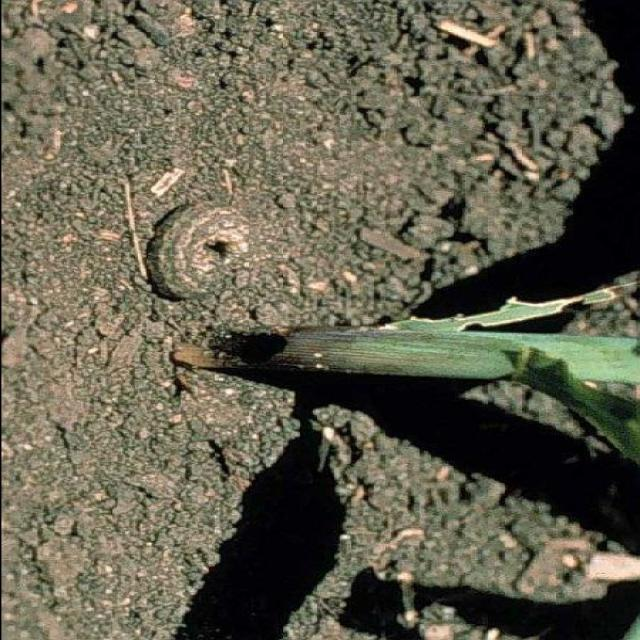black cutworm: (150, 202, 254, 312)
